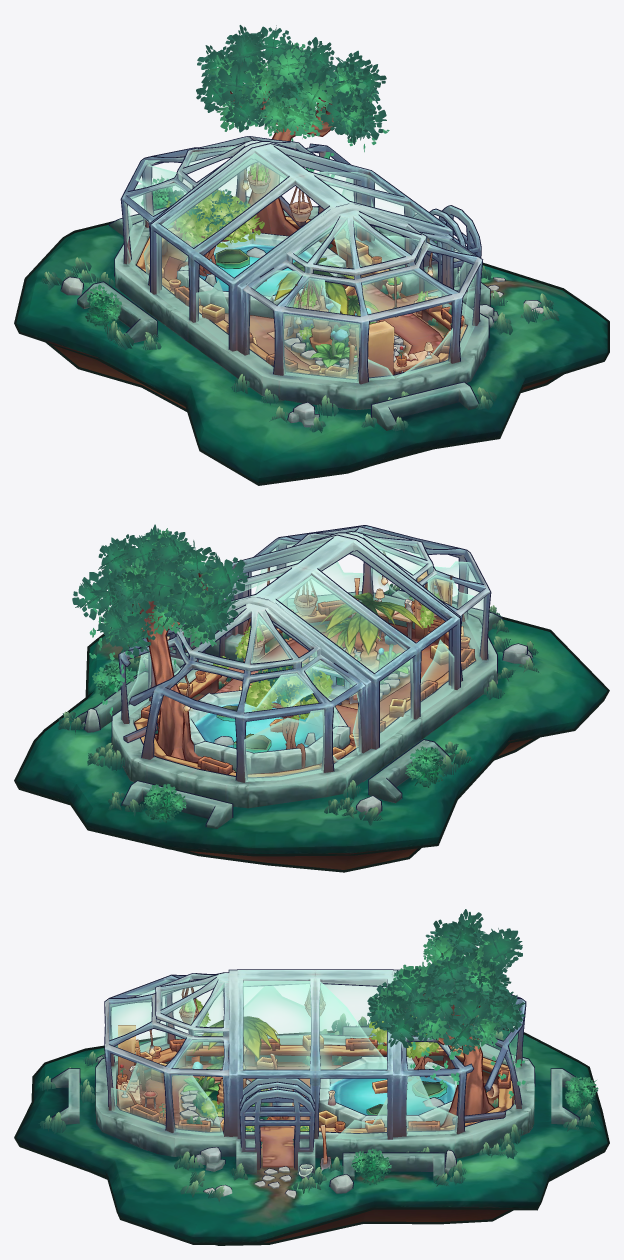
The model's file is stylized_mangrove_greenhouse-transformed.glb.
3 views of the same model, one above another, from view 1: azimuth 30°, elevation 25°; view 2: azimuth 150°, elevation 25°; view 3: azimuth 270°, elevation 25° (orthographic). The views are drawn at different scales.
Parts seen in each view (by area): view 1: Circle.010_TT_checker_2_0, Cube.001_TT_checker_1_0, Cube.042_Glass_0, Plane.021_Leaves 1_0, Cube.001_Line art_0, Cube.006_TT_checker_3_0, Plane.021_Leaves 2_0, Plane.015_Grass_0, Circle.031_Line art Green _0, BezierCurve_TT_checker_4_0, Plane.018_Leaves 4_0, Cube.006_Line art _Red_0 (+3 smaller); view 2: Circle.010_TT_checker_2_0, Cube.001_TT_checker_1_0, Cube.042_Glass_0, Plane.021_Leaves 1_0, Cube.001_Line art_0, Cube.006_TT_checker_3_0, BezierCurve_TT_checker_4_0, Plane.015_Grass_0, Plane.021_Leaves 2_0, Circle.031_Line art Green _0, Cube.006_Line art _Red_0, Plane.018_Leaves 4_0 (+3 smaller); view 3: Circle.010_TT_checker_2_0, Cube.001_TT_checker_1_0, Cube.042_Glass_0, Plane.021_Leaves 1_0, Cube.006_TT_checker_3_0, Cube.001_Line art_0, Plane.015_Grass_0, Plane.021_Leaves 2_0, Circle.031_Line art Green _0, Cube.006_Line art _Red_0, BezierCurve_TT_checker_4_0, Plane.018_Leaves 4_0 (+4 smaller).
Part boxes in pixels (left/top/right/bottom): Circle.010_TT_checker_2_0: left=16, top=163, right=607, bottom=483; Cube.001_TT_checker_1_0: left=77, top=136, right=489, bottom=430; Cube.042_Glass_0: left=124, top=146, right=477, bottom=382; Plane.021_Leaves 1_0: left=163, top=25, right=386, bottom=336; Cube.001_Line art_0: left=60, top=136, right=543, bottom=422; Cube.006_TT_checker_3_0: left=137, top=217, right=466, bottom=378; Plane.021_Leaves 2_0: left=86, top=42, right=436, bottom=320; Plane.015_Grass_0: left=40, top=189, right=559, bottom=432; Circle.031_Line art Green _0: left=14, top=194, right=609, bottom=485; BezierCurve_TT_checker_4_0: left=176, top=84, right=451, bottom=361; Plane.018_Leaves 4_0: left=164, top=163, right=430, bottom=340; Cube.006_Line art _Red_0: left=136, top=91, right=467, bottom=376; Circle.010_TT_checker_2_0: left=16, top=551, right=607, bottom=869; Cube.001_TT_checker_1_0: left=75, top=526, right=501, bottom=828; Cube.042_Glass_0: left=127, top=532, right=486, bottom=781; Plane.021_Leaves 1_0: left=72, top=524, right=352, bottom=705; Cube.001_Line art_0: left=73, top=525, right=533, bottom=826; Cube.006_TT_checker_3_0: left=135, top=571, right=475, bottom=777; BezierCurve_TT_checker_4_0: left=138, top=573, right=414, bottom=767; Plane.015_Grass_0: left=57, top=583, right=539, bottom=825; Plane.021_Leaves 2_0: left=92, top=528, right=442, bottom=811; Circle.031_Line art Green _0: left=14, top=592, right=609, bottom=872; Cube.006_Line art _Red_0: left=132, top=551, right=476, bottom=774; Plane.018_Leaves 4_0: left=213, top=590, right=441, bottom=719; Circle.010_TT_checker_2_0: left=16, top=987, right=607, bottom=1242; Cube.001_TT_checker_1_0: left=51, top=970, right=579, bottom=1180; Cube.042_Glass_0: left=109, top=977, right=517, bottom=1139; Plane.021_Leaves 1_0: left=367, top=909, right=525, bottom=1054; Cube.006_TT_checker_3_0: left=117, top=1025, right=512, bottom=1132; Cube.001_Line art_0: left=51, top=969, right=579, bottom=1194; Plane.015_Grass_0: left=38, top=1013, right=595, bottom=1201; Plane.021_Leaves 2_0: left=211, top=936, right=598, bottom=1172; Circle.031_Line art Green _0: left=14, top=1028, right=609, bottom=1245; Cube.006_Line art _Red_0: left=116, top=953, right=513, bottom=1168; BezierCurve_TT_checker_4_0: left=119, top=966, right=493, bottom=1126; Plane.018_Leaves 4_0: left=181, top=998, right=439, bottom=1131.
Bounding box in the file's own units: 20.06 × 12.93 × 23.94.
Materials: 17 (14 with a texture image).
